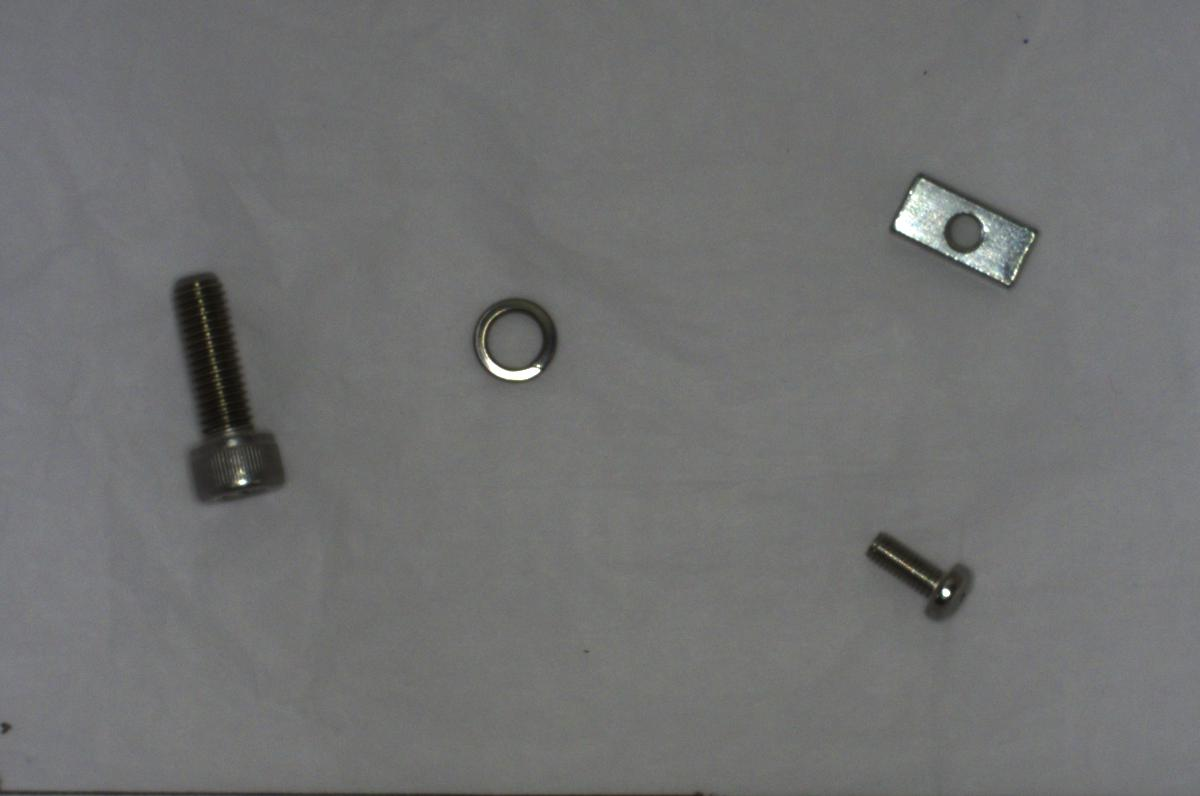Hexagon screw: (162, 262, 285, 509)
Rectangular nut: (880, 169, 1041, 292)
Round head screw: (865, 523, 977, 630)
Spring washer: (470, 289, 565, 386)
